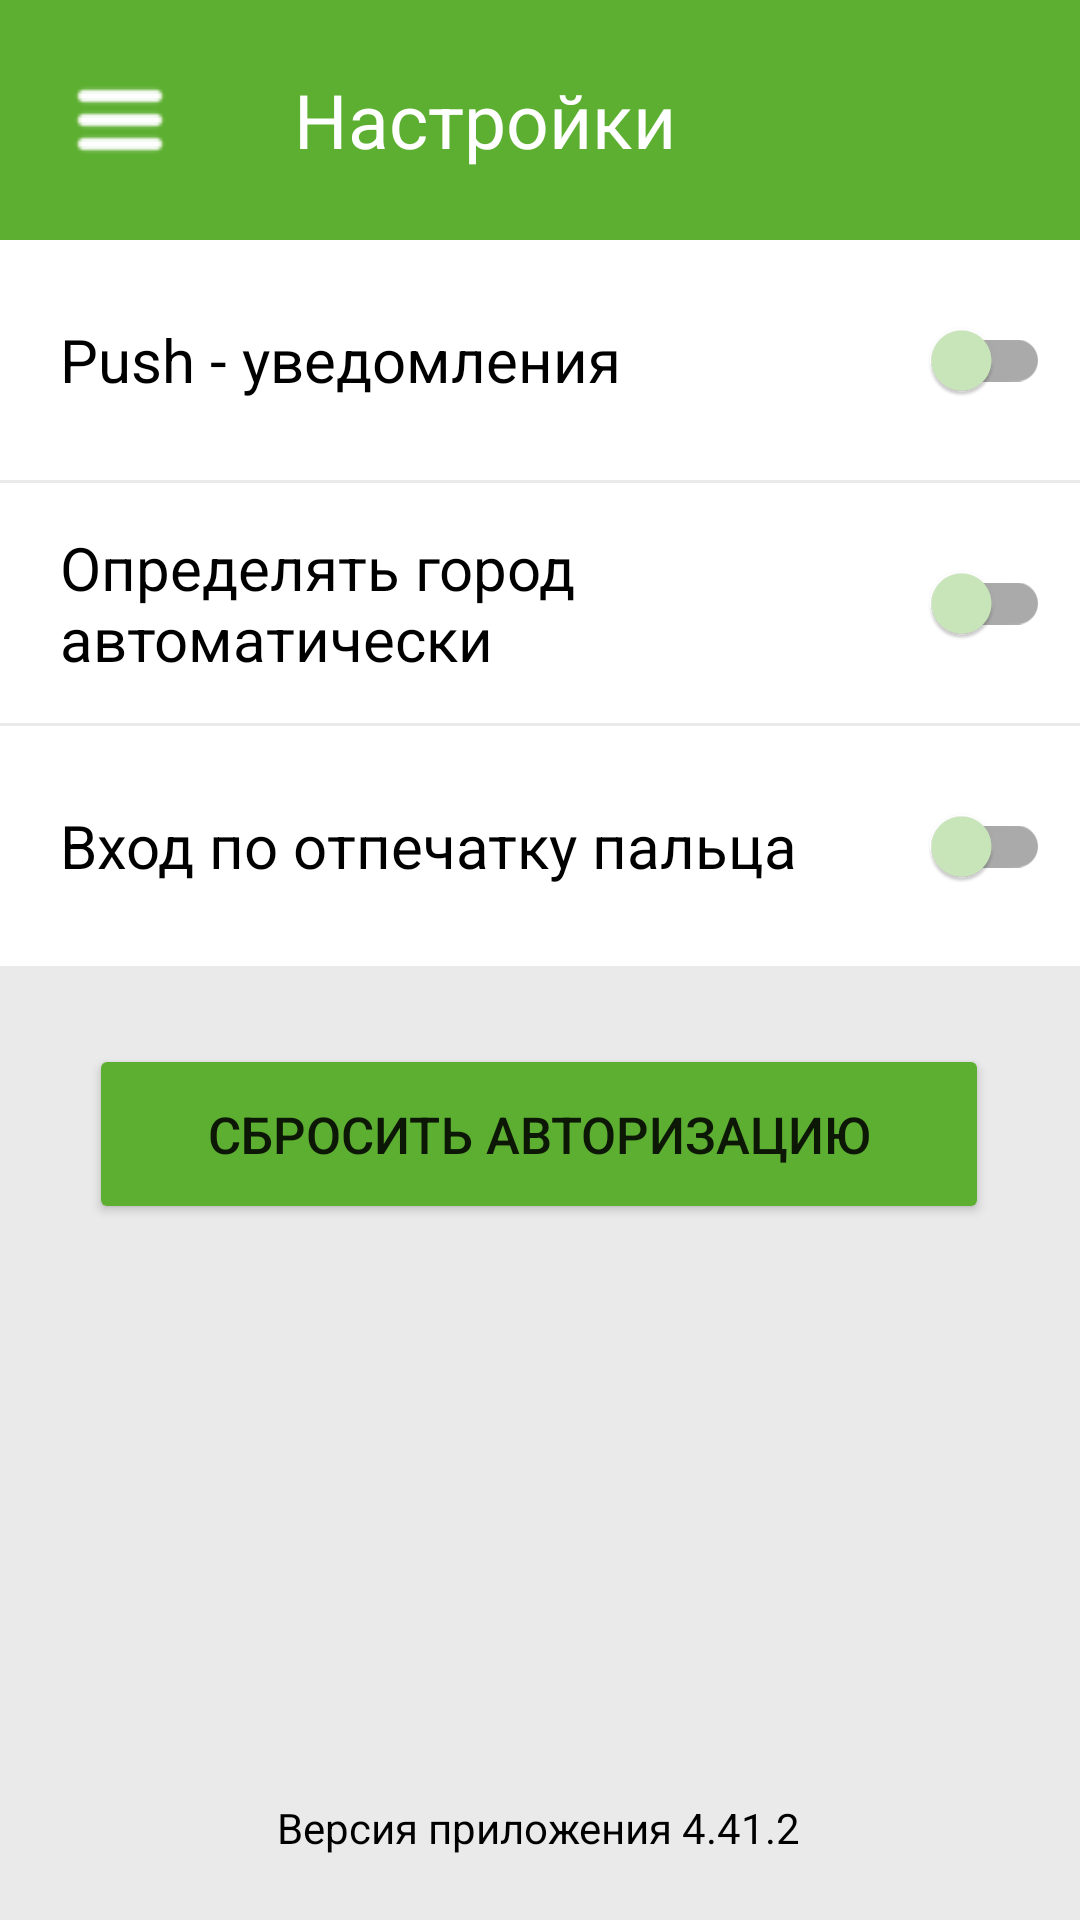

Point at icon controls on the screen. Image size 1080x1920, points as point (x, y).
burger menu: point (120, 120)
